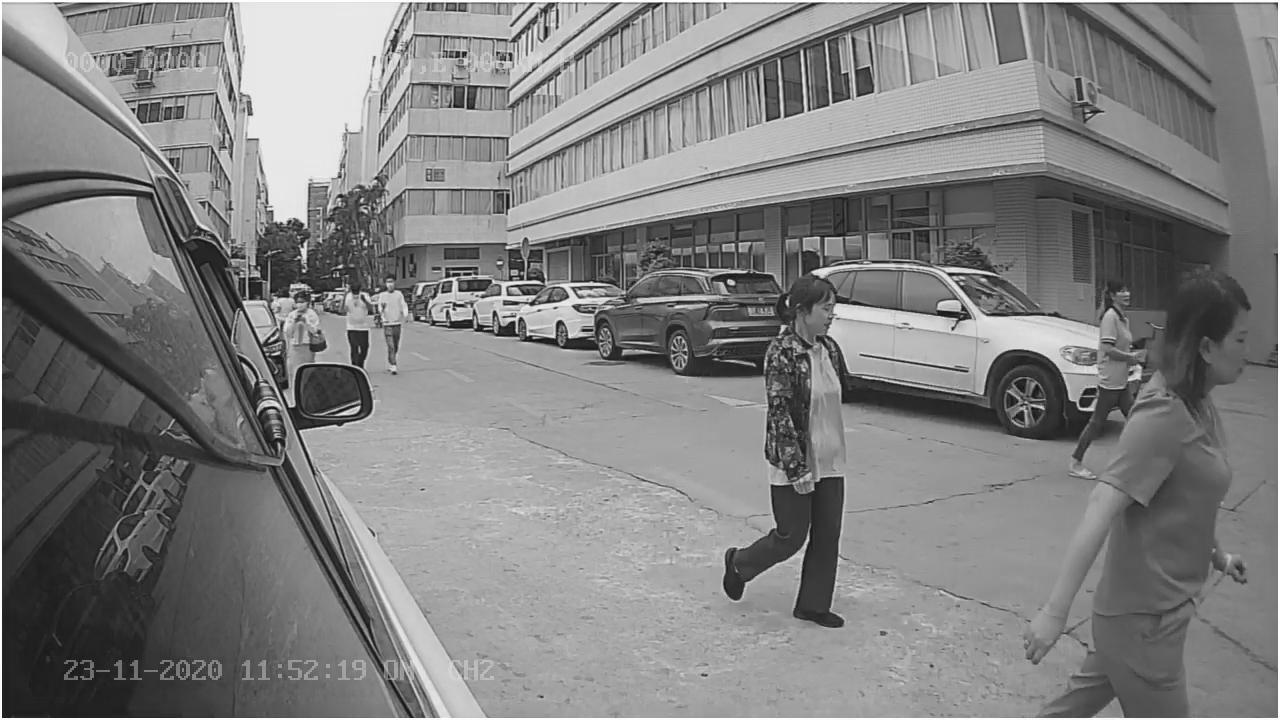person: (1133, 277, 1251, 707), (735, 268, 853, 618)
